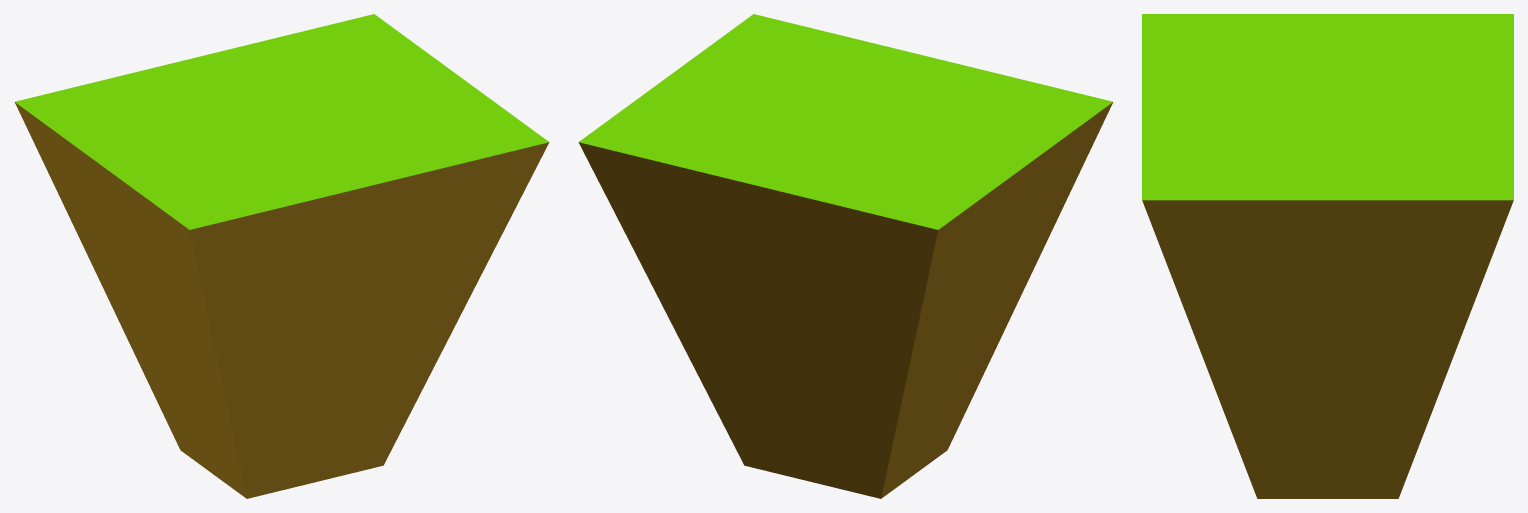
File: testModel.fbx
3 views of the same model, side by side, from view 1: azimuth 30°, elevation 25°; view 2: azimuth 150°, elevation 25°; view 3: azimuth 270°, elevation 25° (orthographic). The views are drawn at different scales.
Parts seen in each view (by area): view 1: pCube1; view 2: pCube1; view 3: pCube1.
Part boxes in pixels (bbox=[...]): pCube1: bbox=[14, 14, 549, 498]; pCube1: bbox=[578, 14, 1113, 498]; pCube1: bbox=[1142, 14, 1513, 498].
Bounding box in the file's own units: 2.03 × 1.81 × 1.71.
